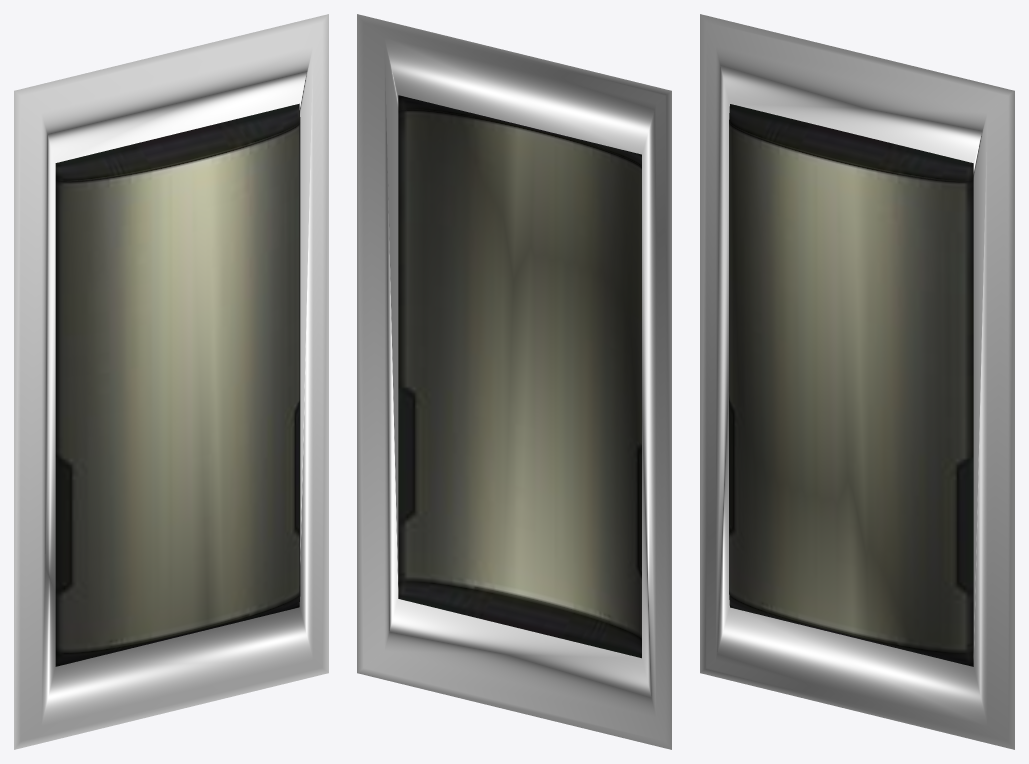
The model's file is light-fixture2.obj.
3 renders of one model, left to right at view 1: azimuth 30°, elevation 25°; view 2: azimuth 150°, elevation 25°; view 3: azimuth 330°, elevation 25°, orthographic.
Visible parts, largest first — view 1: Mesh1 Component_1_1 Model; view 2: Mesh1 Component_1_1 Model; view 3: Mesh1 Component_1_1 Model.
Part boxes in pixels (box(x1,y1,x2,y2)): Mesh1 Component_1_1 Model: box(14, 14, 328, 749); Mesh1 Component_1_1 Model: box(357, 14, 671, 749); Mesh1 Component_1_1 Model: box(700, 14, 1014, 749).
Bounding box in the file's own units: 0.9129 × 1.83 × 0.1037.
